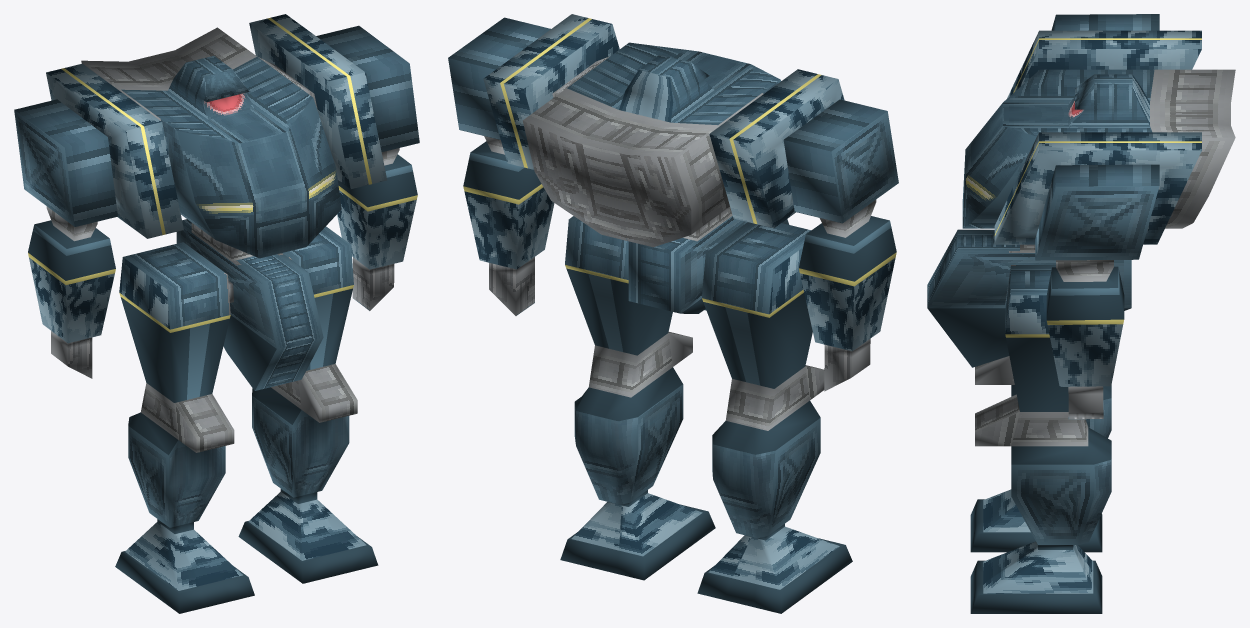
File: fatboi.glb
3 views of the same model, side by side, from view 1: azimuth 30°, elevation 25°; view 2: azimuth 150°, elevation 25°; view 3: azimuth 270°, elevation 25° (orthographic). The views are drawn at different scales.
Parts seen in each view (by area): view 1: Cube; view 2: Cube; view 3: Cube.
Part boxes in pixels (bbox=[...]): Cube: bbox=[14, 14, 419, 613]; Cube: bbox=[448, 14, 898, 613]; Cube: bbox=[927, 14, 1235, 613].
Bounding box in the file's own units: 1.46 × 1.87 × 1.08.
Materials: 1 (1 with a texture image).
